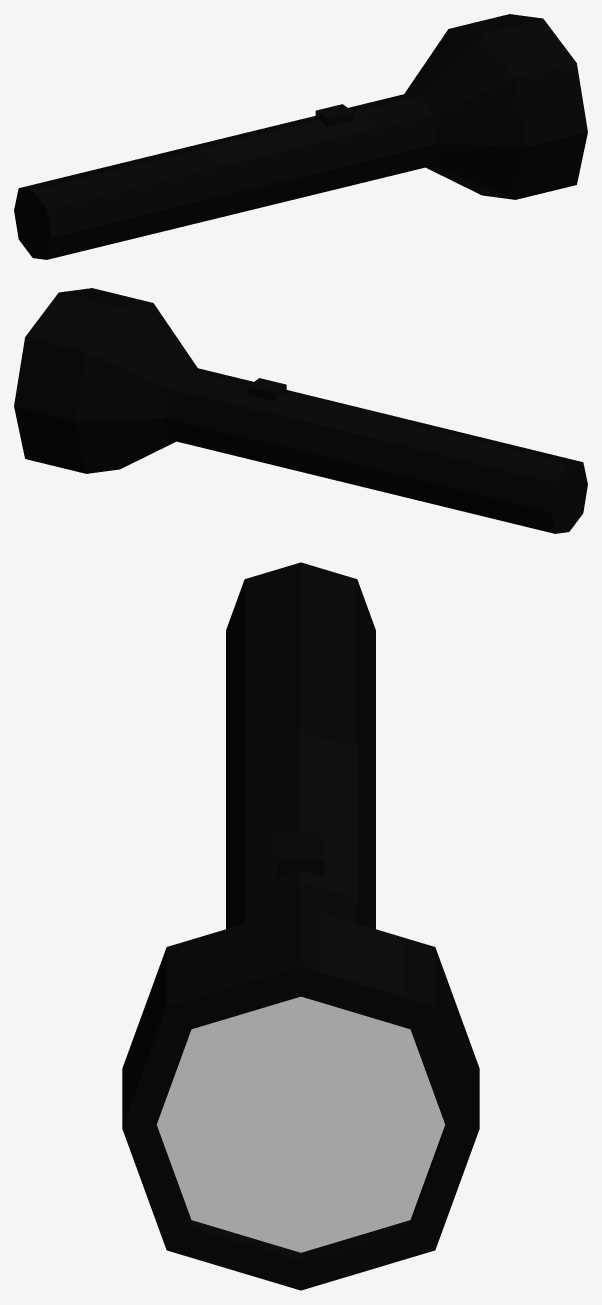
Rendered from CHAHIN_FLASHLIGHT.obj.
3 renders of one model, top to bottom at view 1: azimuth 30°, elevation 25°; view 2: azimuth 150°, elevation 25°; view 3: azimuth 270°, elevation 25°, orthographic. The views are drawn at different scales.
Visible parts, largest first — view 1: Cube.001_Cube; view 2: Cube.001_Cube; view 3: Cube.001_Cube.
Part boxes in pixels (bbox=[...]): Cube.001_Cube: bbox=[14, 14, 587, 259]; Cube.001_Cube: bbox=[14, 288, 587, 533]; Cube.001_Cube: bbox=[122, 562, 479, 1290].
Bounding box in the file's own units: 3.22 × 0.9758 × 0.9758.
Materials: 1 (1 with a texture image).
